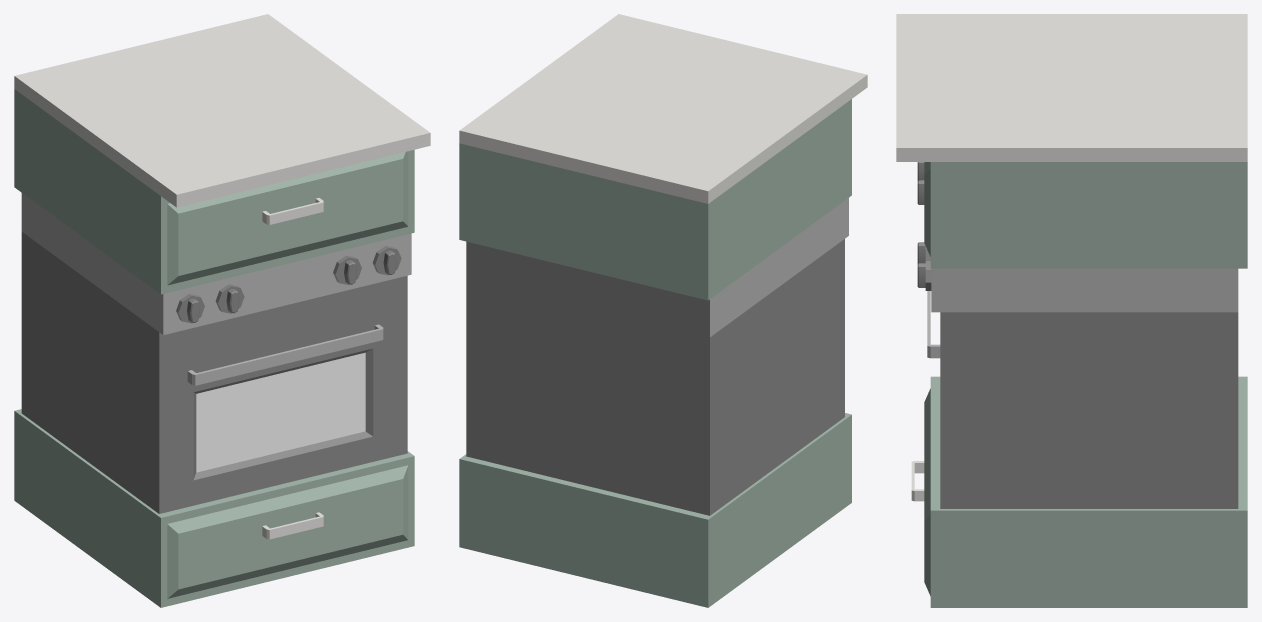
File: oven.glb
3 renders of one model, left to right at view 1: azimuth 30°, elevation 25°; view 2: azimuth 150°, elevation 25°; view 3: azimuth 270°, elevation 25°, orthographic. The views are drawn at different scales.
Visible parts, largest first — view 1: Kitchen_Oven; view 2: Kitchen_Oven; view 3: Kitchen_Oven.
Boxes of the visible parts, x1=… form: Kitchen_Oven: x1=14, y1=14, x2=430, y2=607; Kitchen_Oven: x1=459, y1=14, x2=867, y2=607; Kitchen_Oven: x1=896, y1=14, x2=1247, y2=607.
Bounding box in the file's own units: 1.01 × 1.62 × 1.12.
